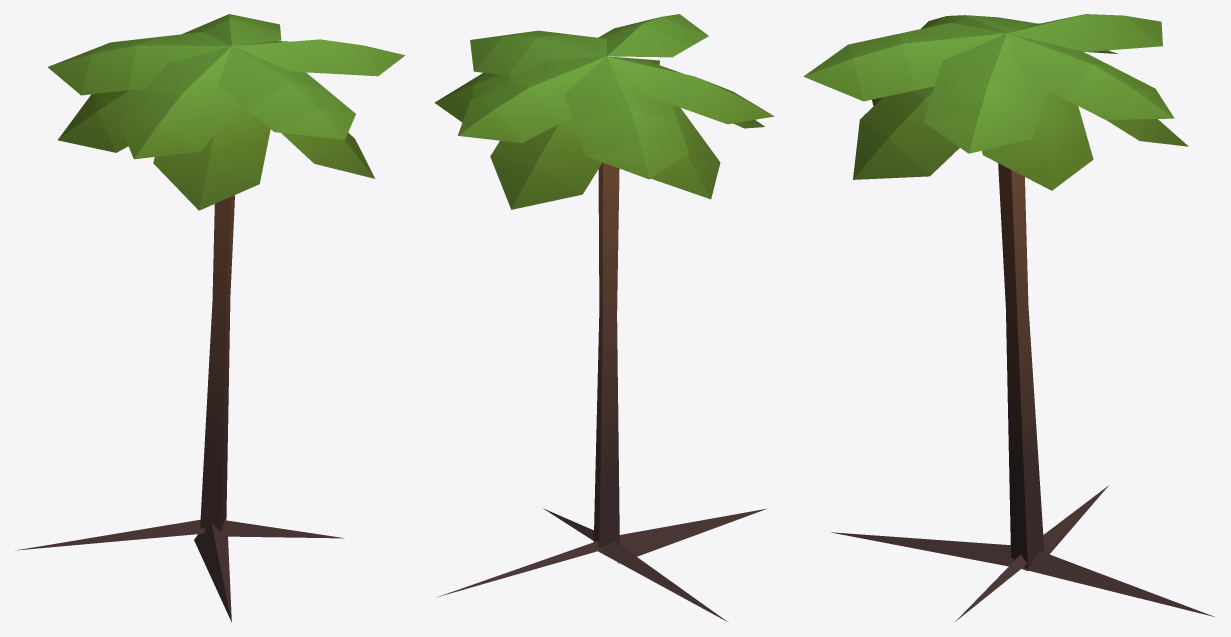
The model's file is SM_Tree_002.fbx.
The picture shows the model from 3 angles, left to right: view 1: azimuth 30°, elevation 25°; view 2: azimuth 150°, elevation 25°; view 3: azimuth 270°, elevation 25°; orthographic projection. The views are drawn at different scales.
Parts seen in each view (by area): view 1: SM_Tree_002; view 2: SM_Tree_002; view 3: SM_Tree_002.
Part boxes in pixels (box(x1,y1,x2,y2)): SM_Tree_002: box(15, 14, 404, 622); SM_Tree_002: box(434, 14, 774, 622); SM_Tree_002: box(803, 14, 1214, 622).
Bounding box in the file's own units: 1.57 × 2.28 × 1.57.
